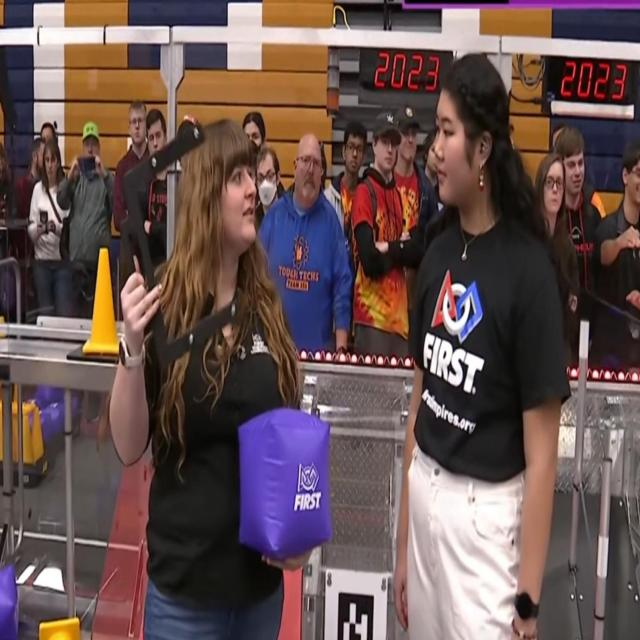frc_cone: (85, 248, 121, 360), (38, 610, 79, 640), (20, 411, 36, 473), (31, 404, 44, 459), (11, 415, 19, 470)
frc_cube: (237, 409, 335, 560), (0, 563, 18, 640), (43, 396, 65, 438), (37, 379, 55, 405)
